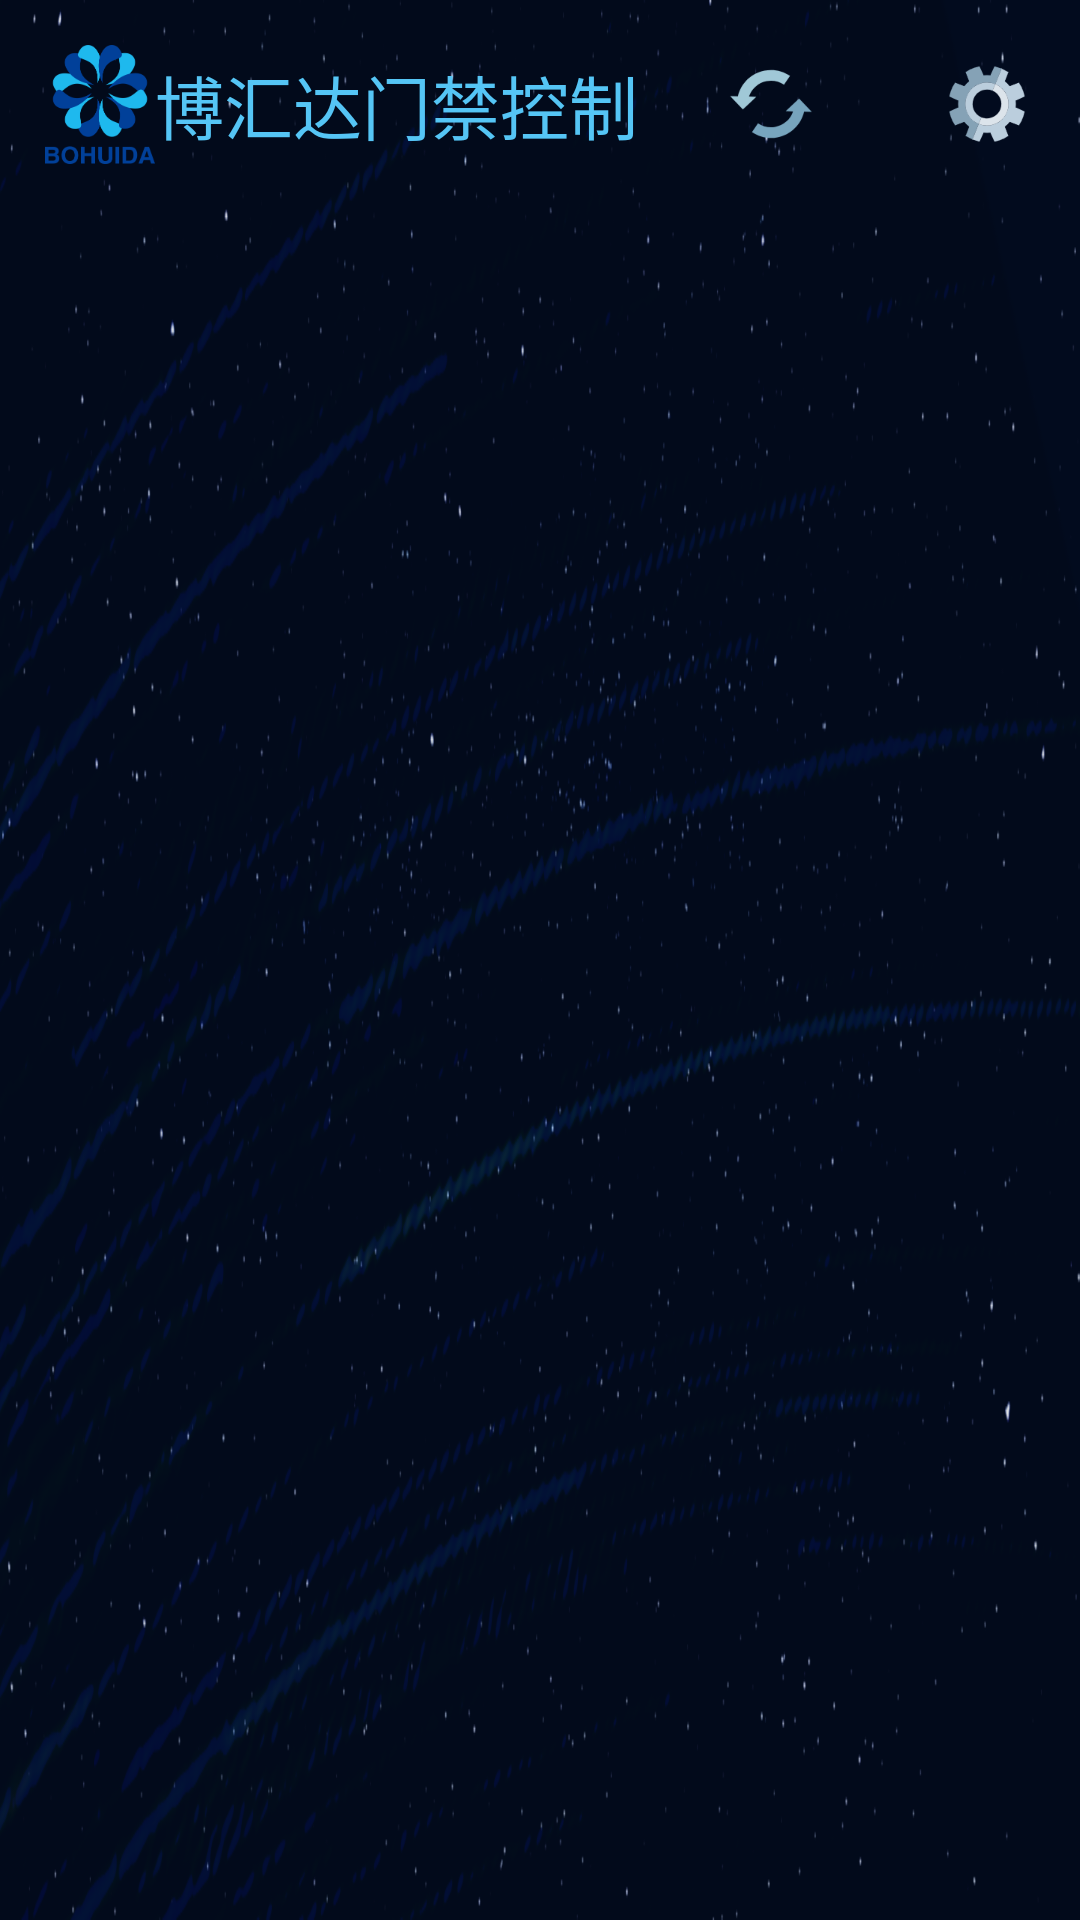

Where to tap for icons on this 1080×1920 app screen, as point (x, y):
refresh: point (771, 111)
set: point (987, 99)
